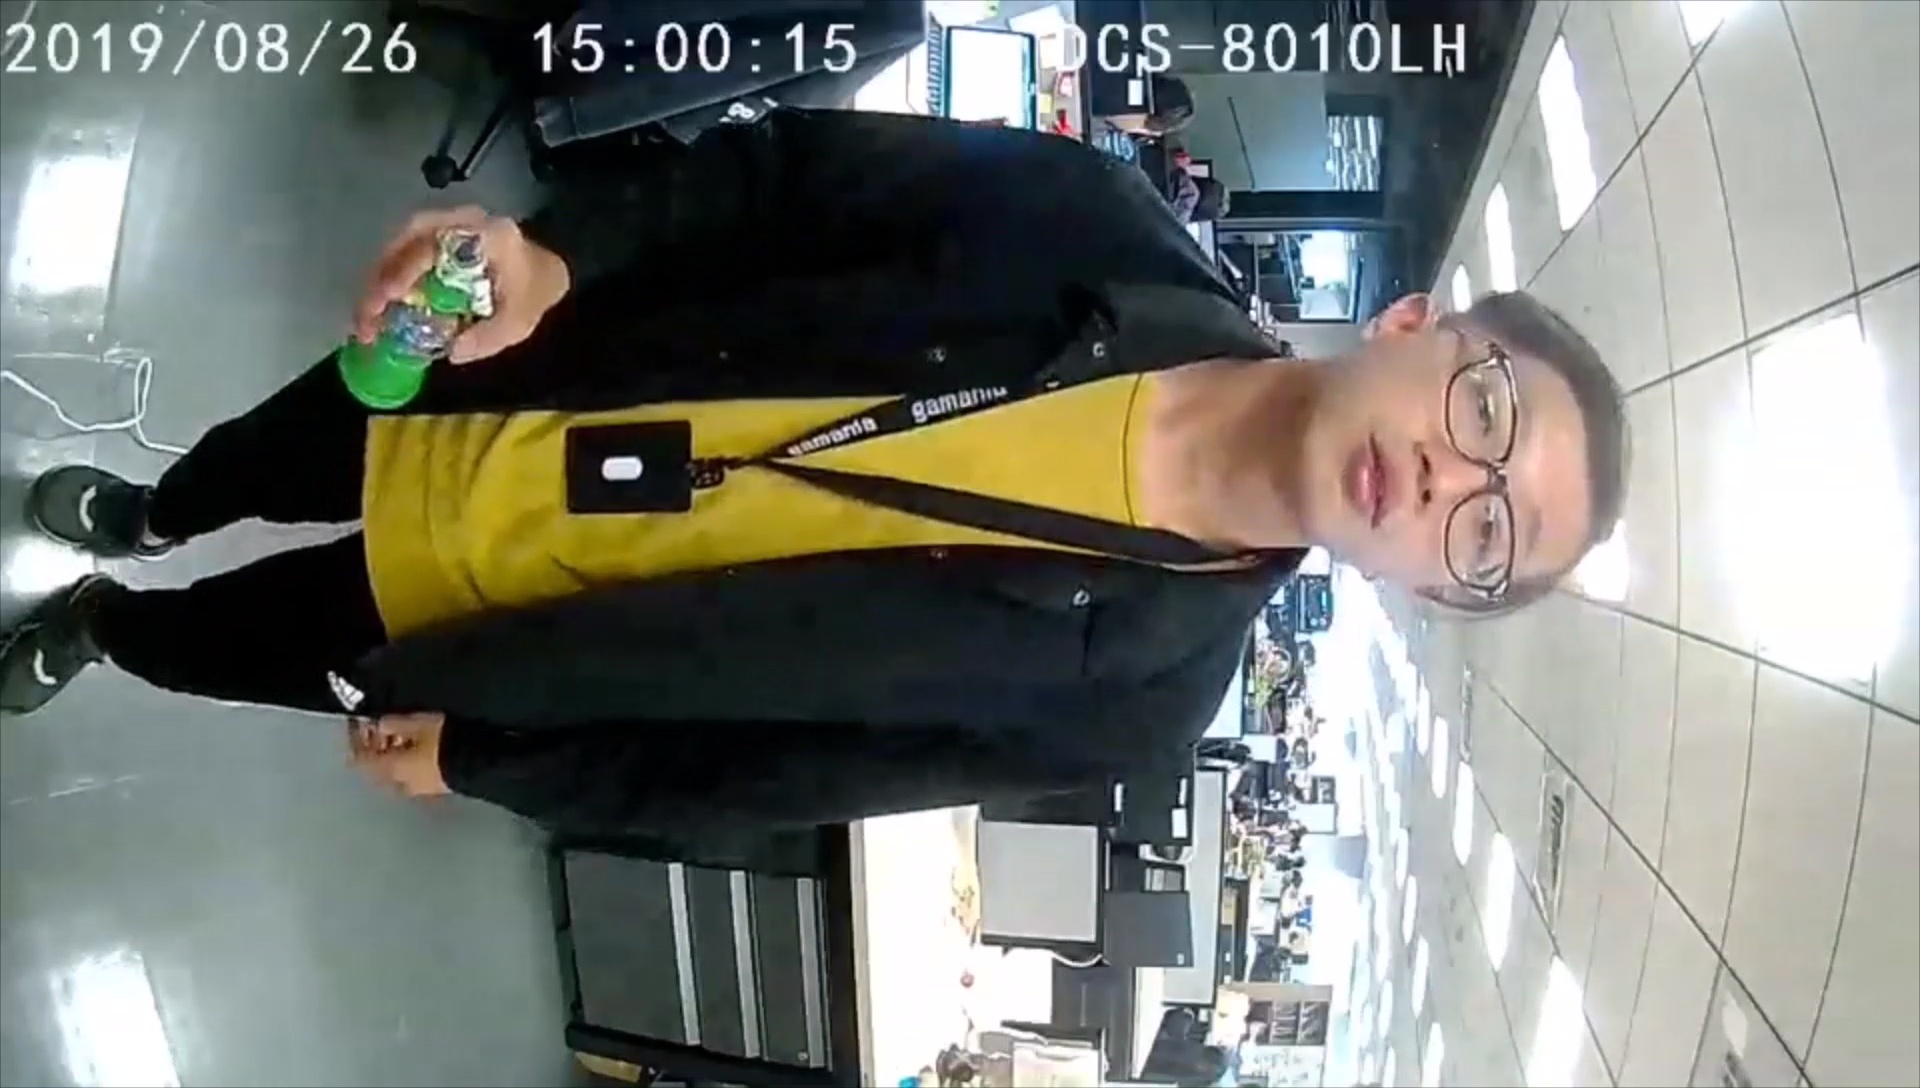buzz: (336, 228, 493, 406)
